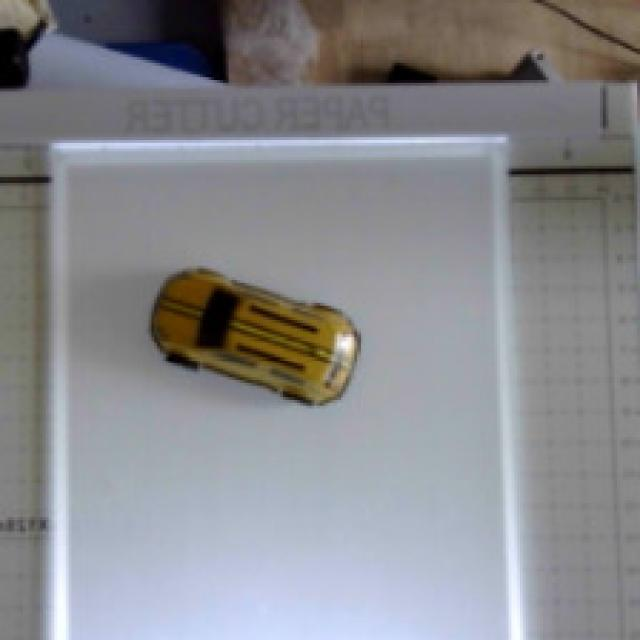Yellow Car: (119, 219, 401, 464)
